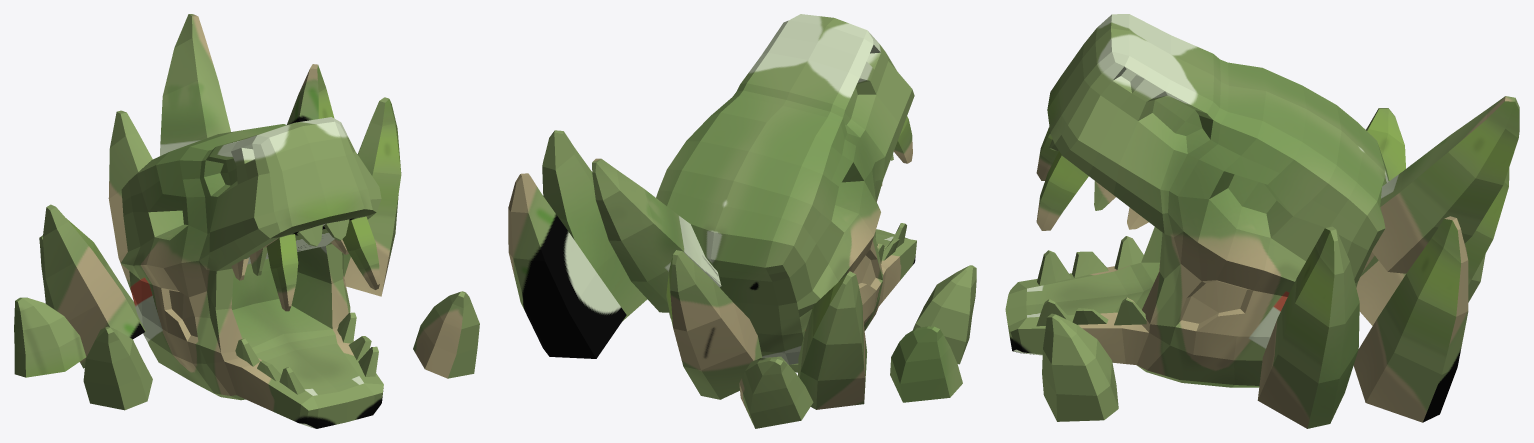
Rendered from BLD_Dungeon.fbx.
3 renders of one model, left to right at view 1: azimuth 30°, elevation 25°; view 2: azimuth 150°, elevation 25°; view 3: azimuth 270°, elevation 25°, orthographic. The views are drawn at different scales.
Parts seen in each view (by area): view 1: BLD_Dungeon_mesh; view 2: BLD_Dungeon_mesh; view 3: BLD_Dungeon_mesh.
Part boxes in pixels (<box>): BLD_Dungeon_mesh: <box>14,14,479,428</box>; BLD_Dungeon_mesh: <box>508,14,976,428</box>; BLD_Dungeon_mesh: <box>1005,14,1519,428</box>.
Bounding box in the file's own units: 114 × 78.73 × 111.
